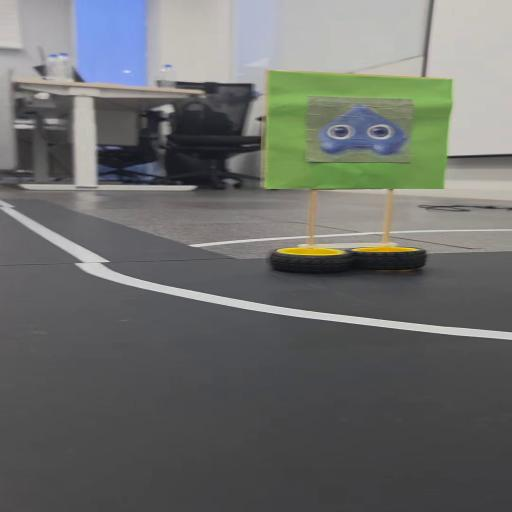Sign_B: (253, 71, 467, 283)
